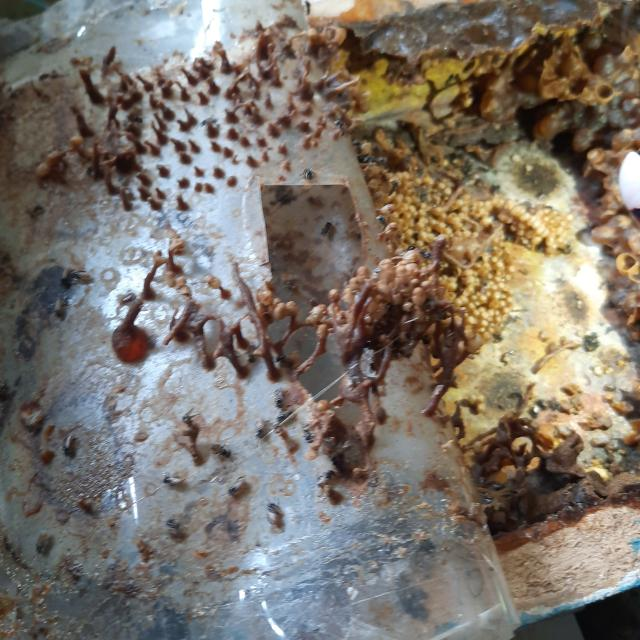honeybee: (58, 428, 82, 459), (32, 532, 54, 558), (226, 474, 249, 497), (72, 264, 94, 288), (210, 441, 235, 462), (266, 502, 285, 529), (162, 515, 185, 537), (270, 388, 291, 412), (52, 267, 76, 288), (274, 408, 296, 430), (162, 468, 185, 488), (319, 469, 336, 494), (176, 410, 197, 430), (254, 417, 271, 440), (304, 428, 322, 446), (316, 218, 333, 236), (29, 202, 43, 222), (125, 110, 146, 123), (301, 165, 317, 182), (333, 120, 349, 137), (52, 300, 66, 318)
